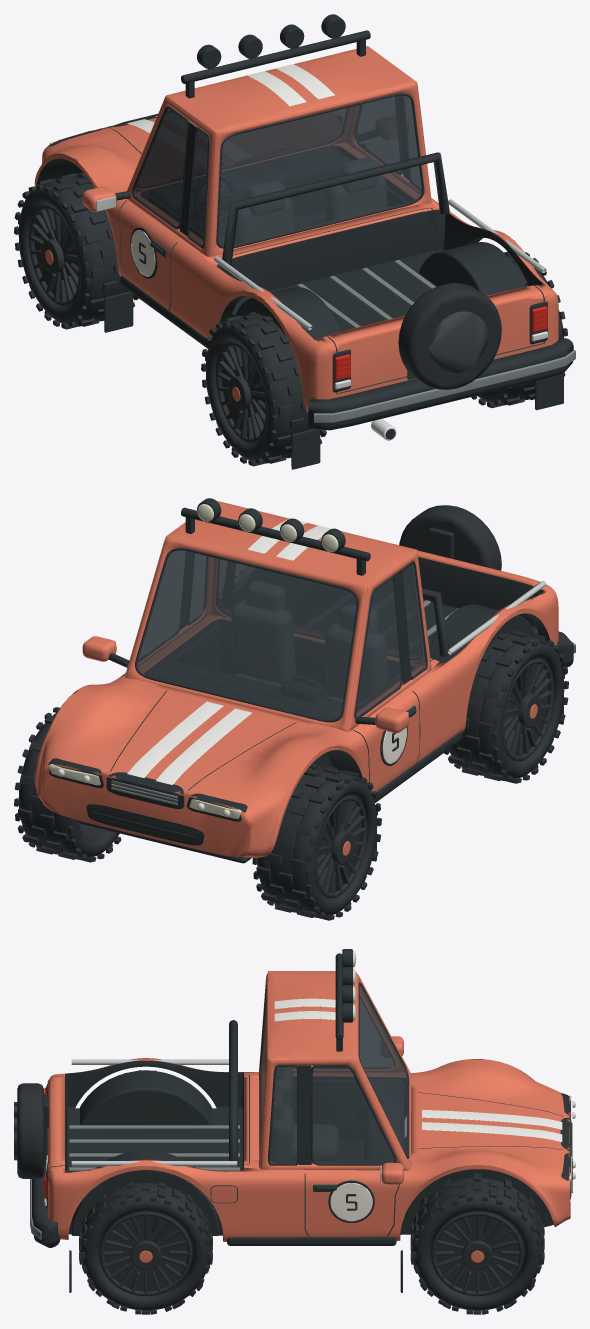
File: tora_lod1.fbx
The picture shows the model from 3 angles, top to bottom: view 1: azimuth 30°, elevation 25°; view 2: azimuth 150°, elevation 25°; view 3: azimuth 270°, elevation 25°; orthographic projection. The views are drawn at different scales.
Visible parts, largest first — view 1: Body, Wheel_RL_Mesh, Wheel_FL_Mesh, Wheel_RR_Mesh; view 2: Body, Wheel_FL_Mesh, Wheel_RL_Mesh, Wheel_FR_Mesh; view 3: Body, Wheel_FR_Mesh, Wheel_RR_Mesh.
Boxes of the visible parts, x1,y1,x2,y2 form: Body: [34, 14, 575, 469]; Wheel_RL_Mesh: [201, 312, 326, 466]; Wheel_FL_Mesh: [14, 172, 138, 329]; Wheel_RR_Mesh: [471, 251, 567, 408]; Body: [34, 498, 575, 863]; Wheel_FL_Mesh: [252, 763, 381, 920]; Wheel_RL_Mesh: [444, 629, 568, 783]; Wheel_FR_Mesh: [14, 707, 121, 862]; Body: [14, 949, 575, 1292]; Wheel_FR_Mesh: [410, 1173, 544, 1314]; Wheel_RR_Mesh: [79, 1182, 212, 1314].
Size of the model in its own units: 246 by 230 by 424.
